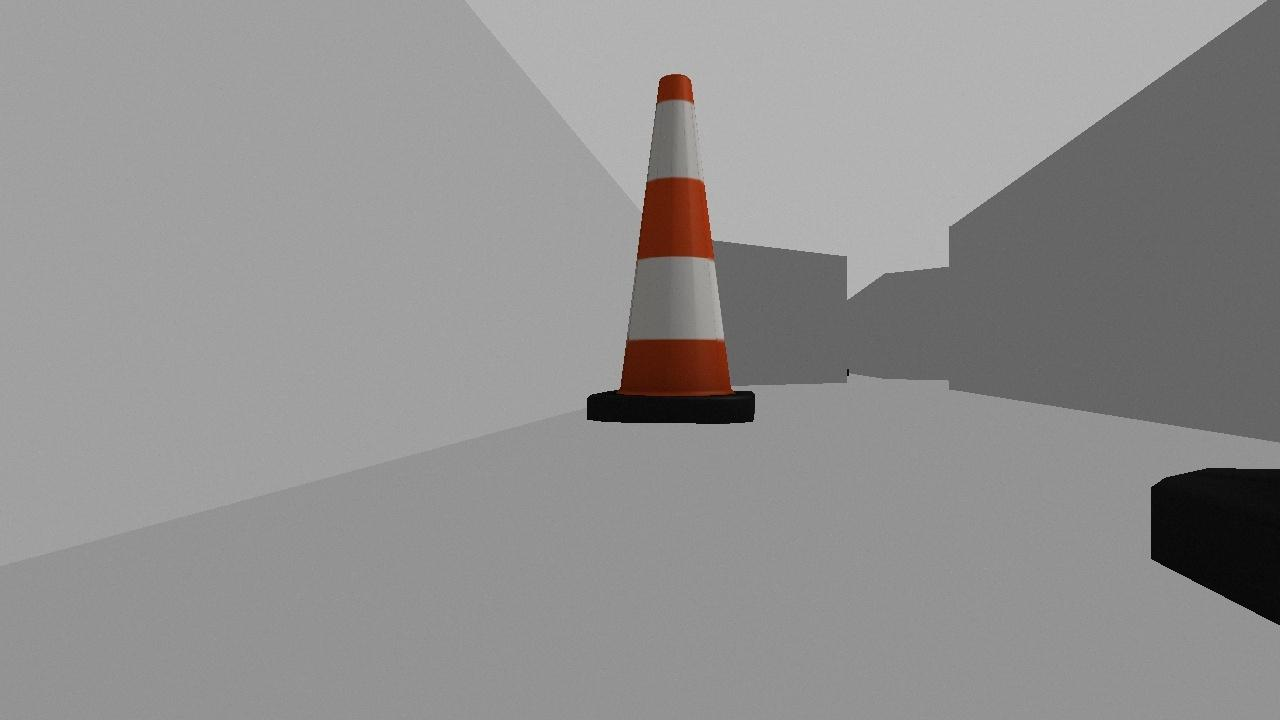cone_barrel: (562, 63, 773, 432)
